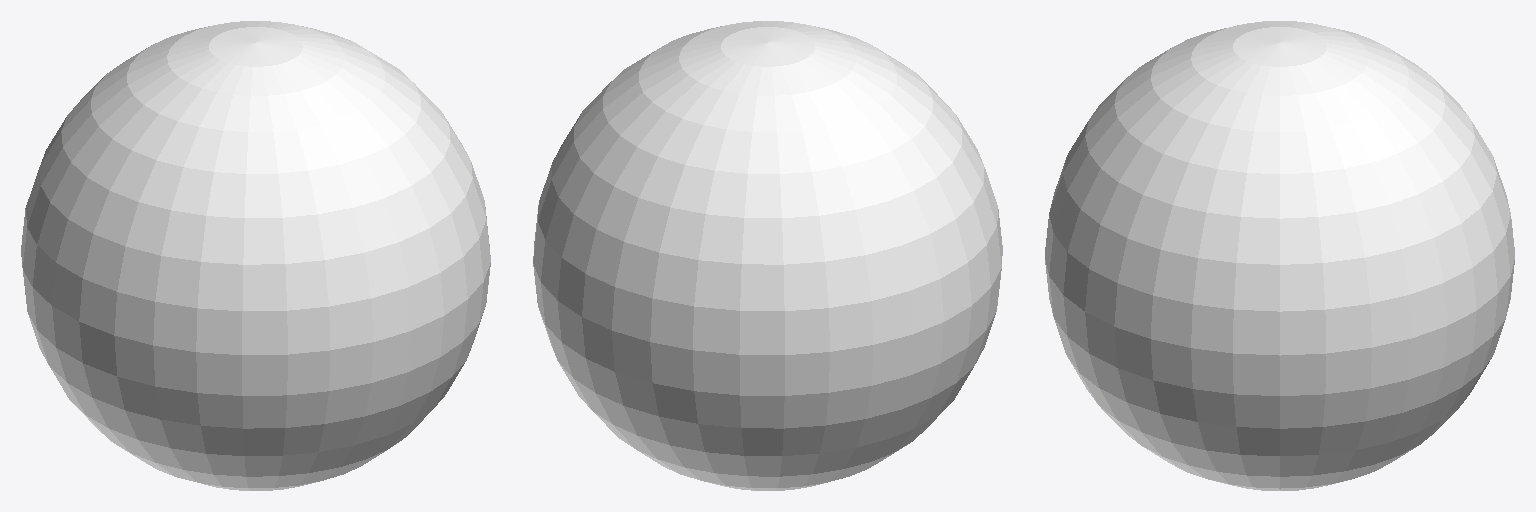
The model's file is earthmesh.obj.
3 views of the same model, side by side, from view 1: azimuth 30°, elevation 25°; view 2: azimuth 150°, elevation 25°; view 3: azimuth 270°, elevation 25° (orthographic).
Visible parts, largest first — view 1: Default object_1; view 2: Default object_1; view 3: Default object_1.
Boxes of the visible parts, x1,y1,x2,y2 form: Default object_1: [21, 21, 490, 490]; Default object_1: [533, 21, 1002, 490]; Default object_1: [1045, 21, 1514, 490].
Size of the model in its own units: 20 by 20 by 20.